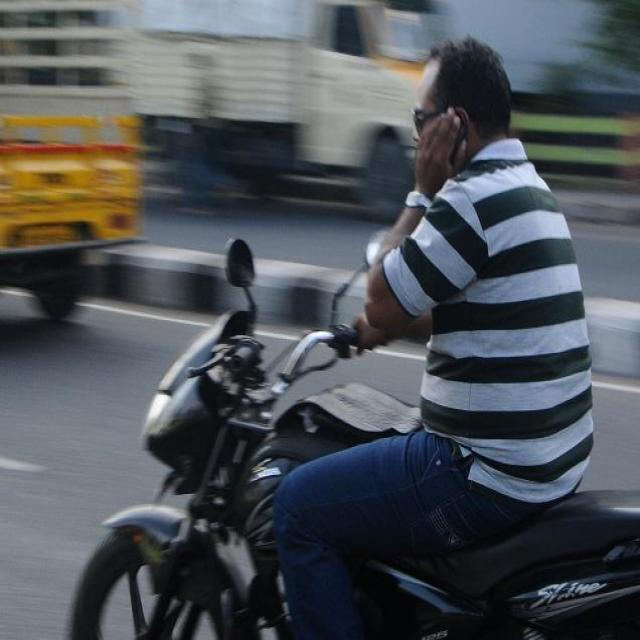Not Wearing Helmet: (391, 40, 515, 216)
Usage Of Phone While Riding: (164, 65, 608, 519)
